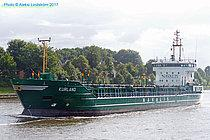Ship: (9, 27, 207, 115)
